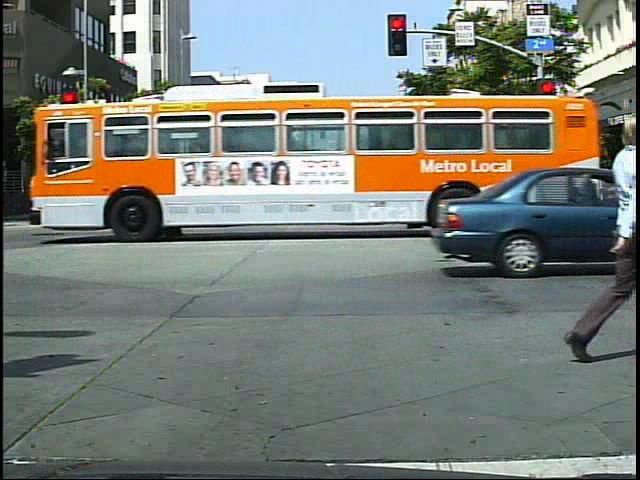person: (292, 165, 324, 229), (333, 166, 363, 230), (195, 167, 224, 233), (548, 160, 570, 211)
